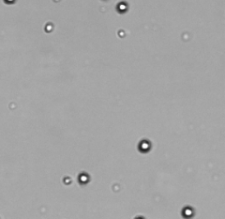Living Cell: (138, 140, 151, 153), (181, 205, 194, 218), (78, 172, 89, 184), (62, 174, 73, 185), (44, 23, 54, 33), (118, 2, 128, 12), (117, 29, 126, 38)
